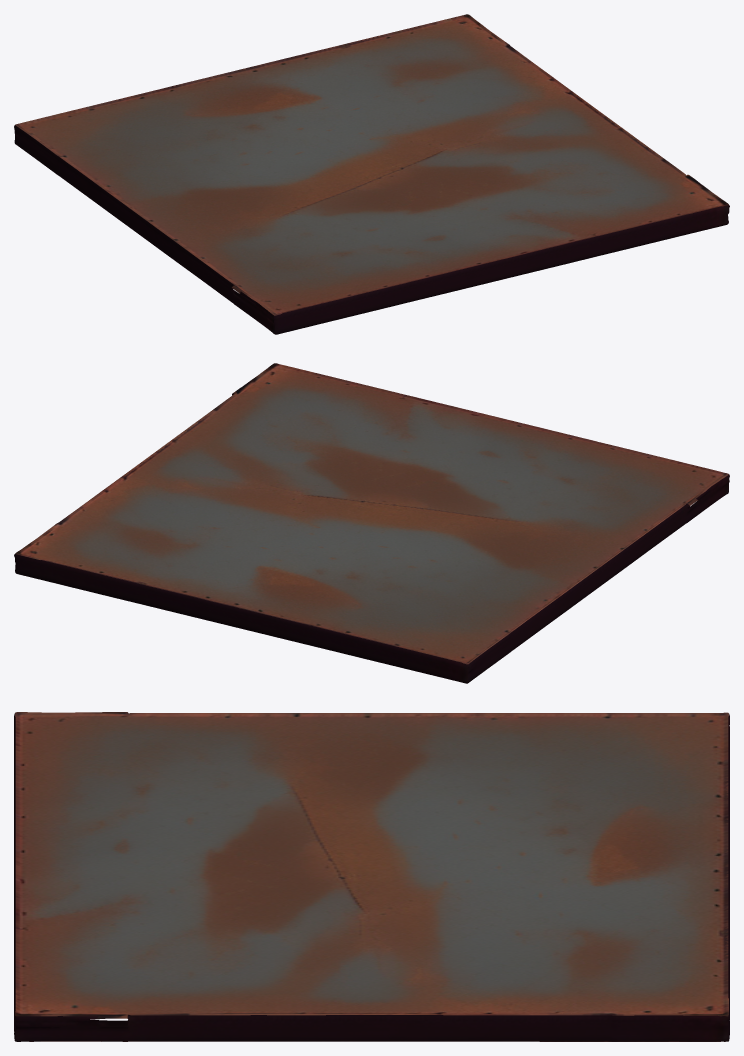
File: catalog-build-17.glb
3 views of the same model, one above another, from view 1: azimuth 30°, elevation 25°; view 2: azimuth 150°, elevation 25°; view 3: azimuth 270°, elevation 25° (orthographic). The views are drawn at different scales.
Parts seen in each view (by area): view 1: tmp2ahjtmjc.ply; view 2: tmp2ahjtmjc.ply; view 3: tmp2ahjtmjc.ply.
Boxes of the visible parts, box(x1,y1,x2,y2) form: tmp2ahjtmjc.ply: box(14, 14, 729, 334); tmp2ahjtmjc.ply: box(14, 363, 729, 683); tmp2ahjtmjc.ply: box(14, 712, 729, 1041).
Size of the model in its own units: 1.98 by 0.0845 by 1.96.
Materials: 1 (1 with a texture image).
